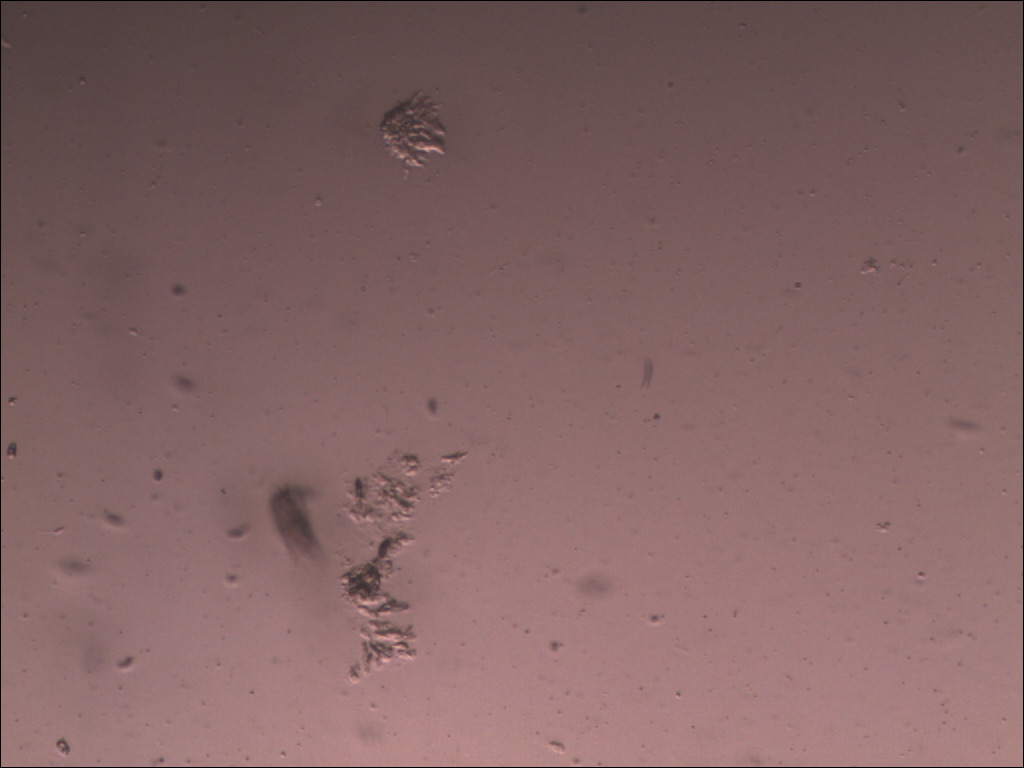amoeba: (365, 79, 465, 183)
